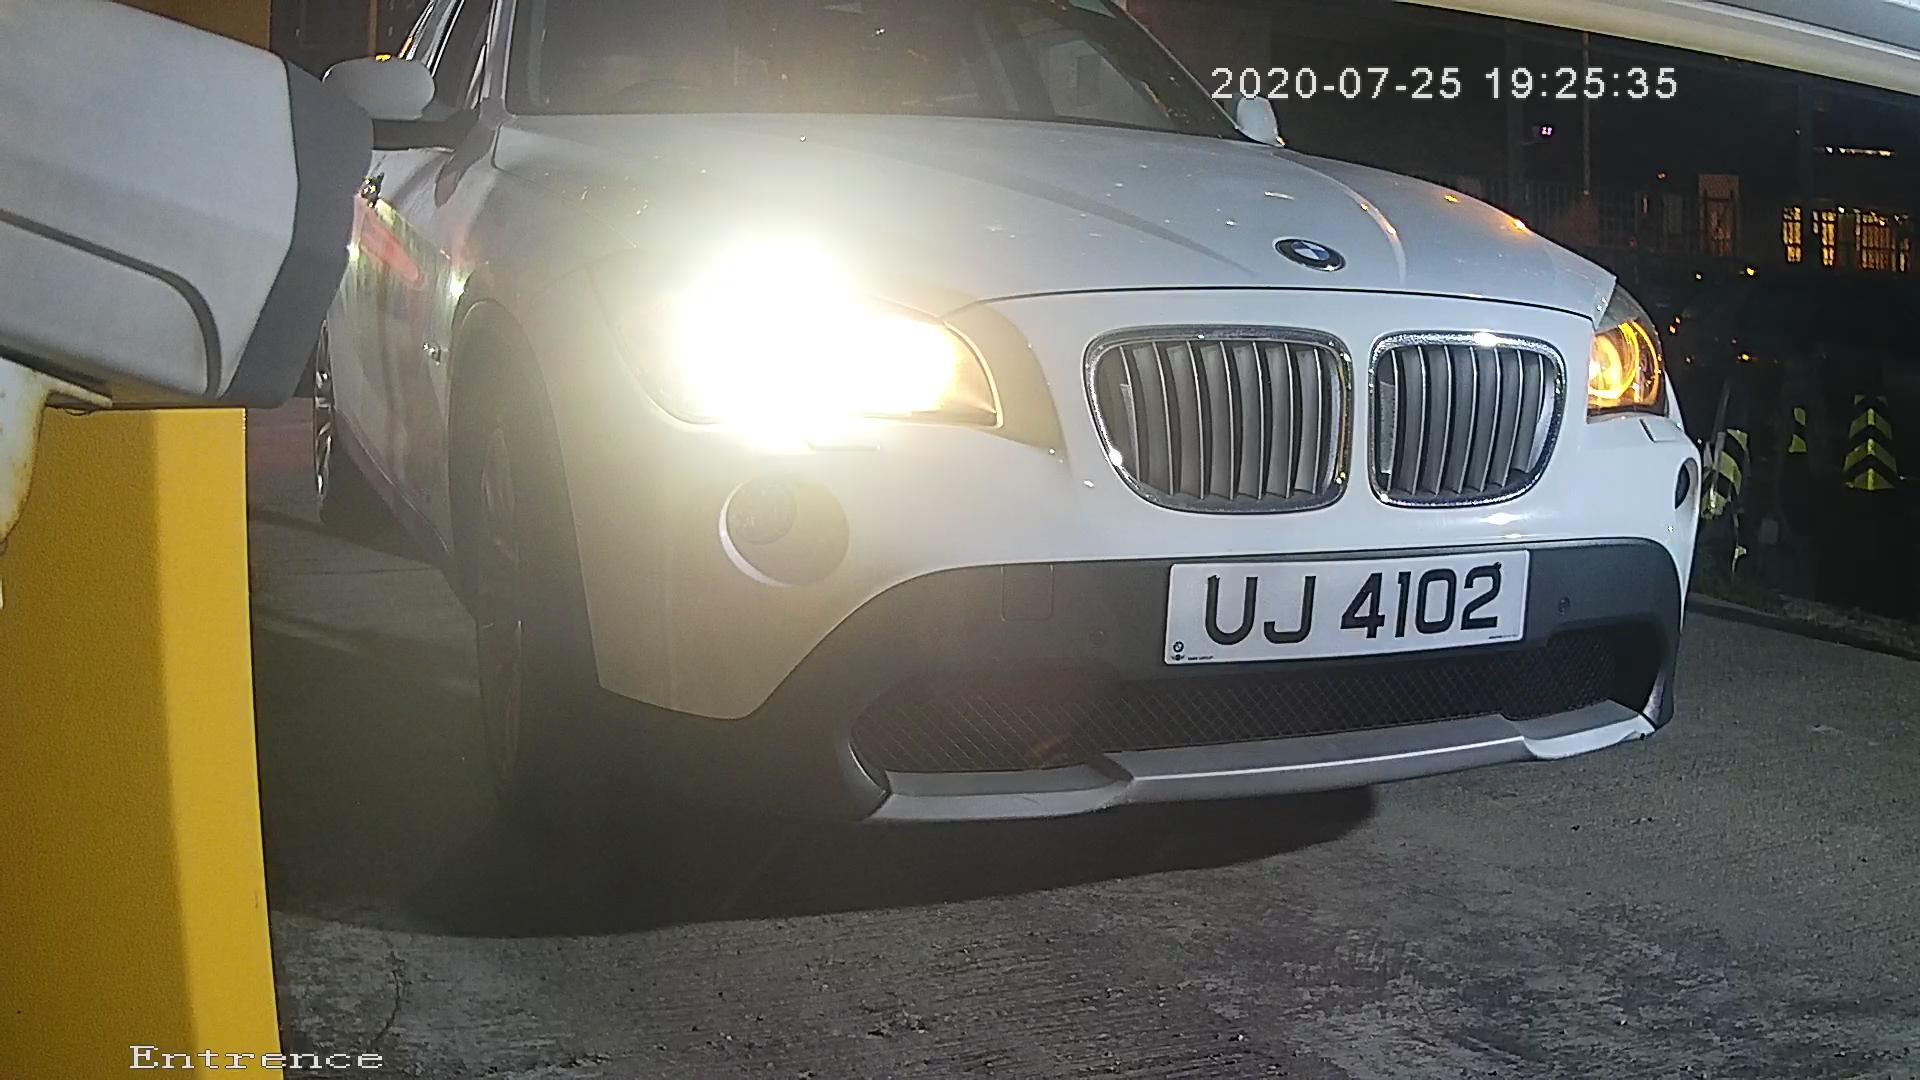Car: (138, 1, 1869, 878)
License Plate: (1132, 526, 1560, 676)
